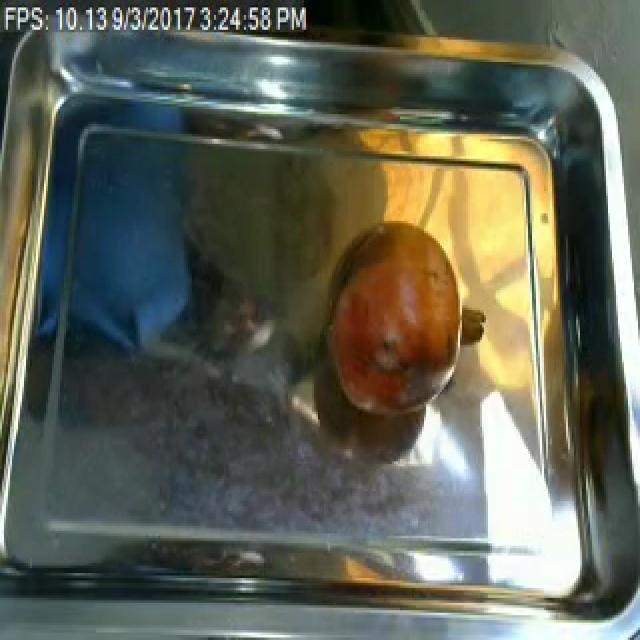fruit: (318, 204, 484, 434)
